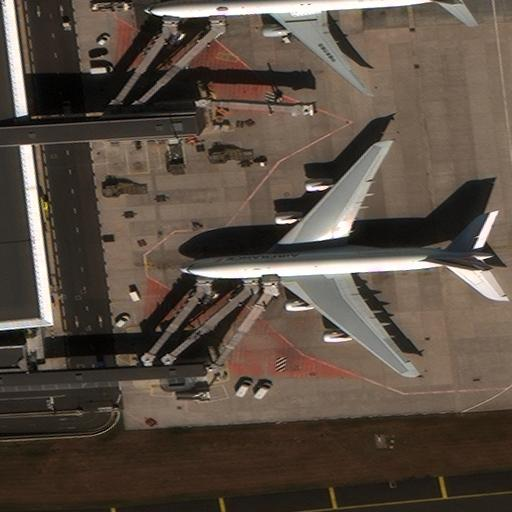Large Civil Transport: (179, 141, 495, 376), (143, 0, 464, 94)
